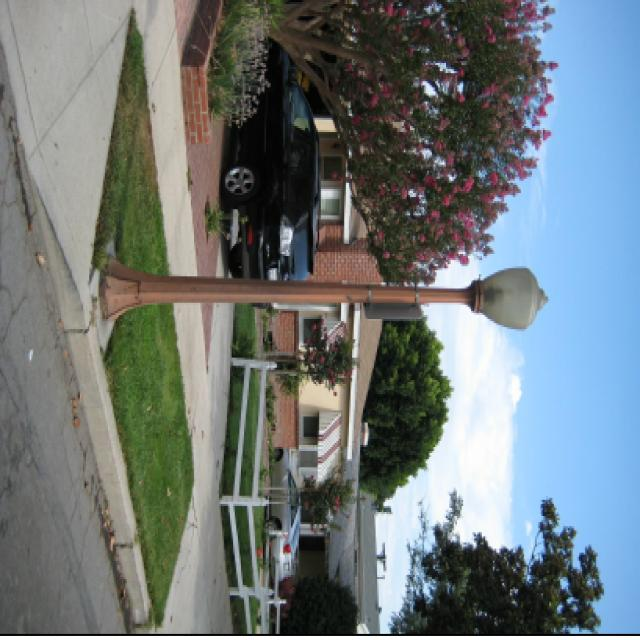Electric pole: (100, 260, 549, 328)
